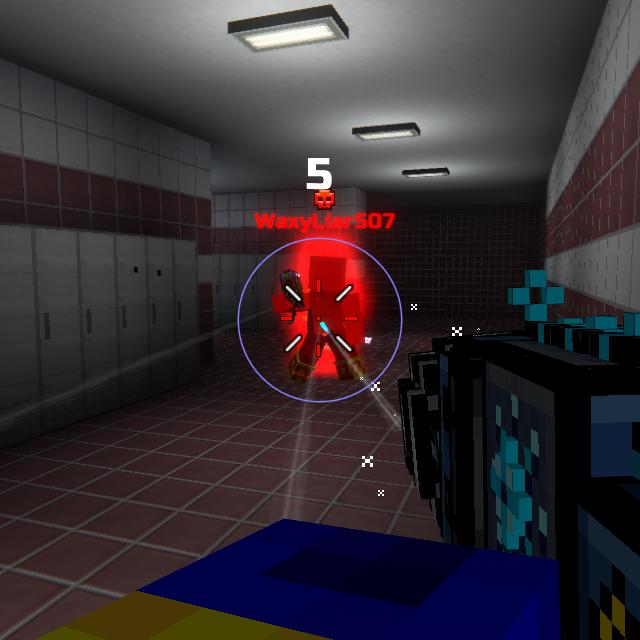Enemy: (286, 256, 366, 384)
